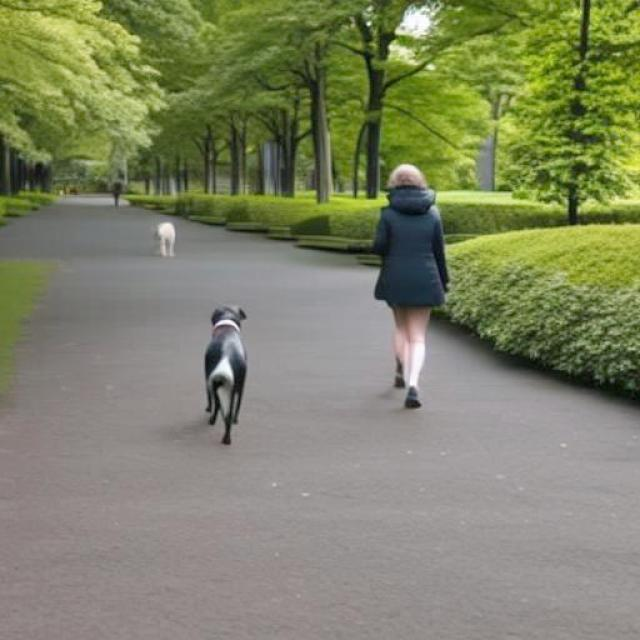Dog: (155, 222, 175, 260)
Unleashed_Dog: (204, 272, 440, 446)
